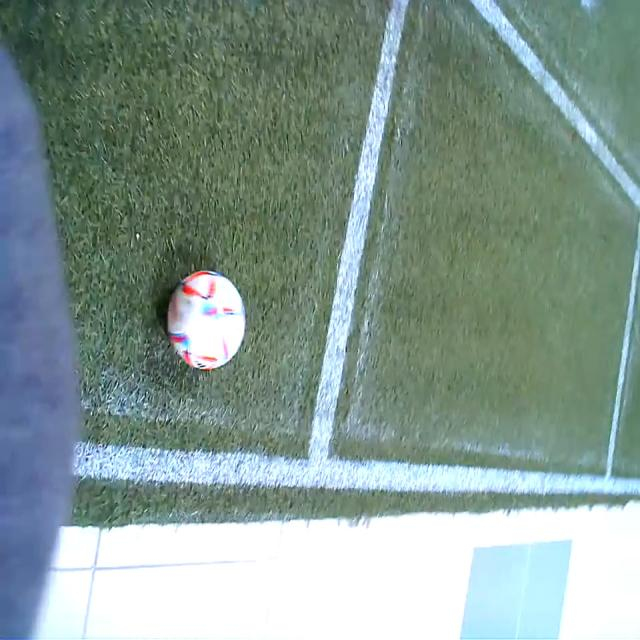ball: (167, 269, 245, 370)
